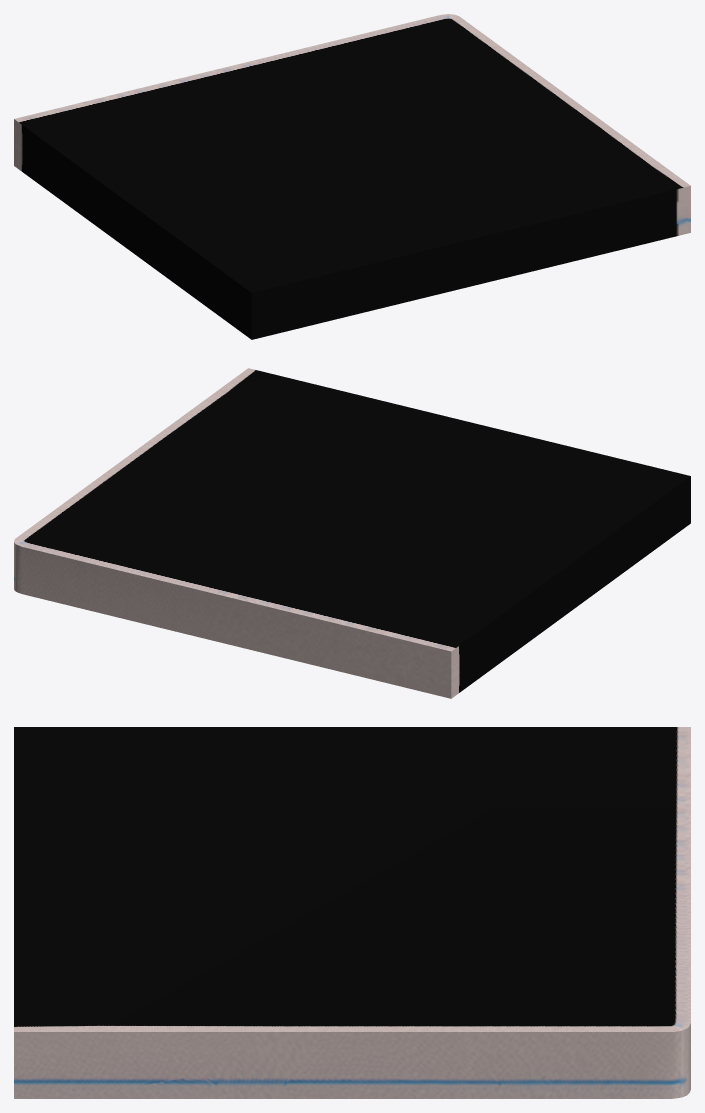
The model's file is 12-roof-back-right.fbx.
3 renders of one model, top to bottom at view 1: azimuth 30°, elevation 25°; view 2: azimuth 150°, elevation 25°; view 3: azimuth 270°, elevation 25°, orthographic. The views are drawn at different scales.
Parts seen in each view (by area): view 1: roof-back-right; view 2: roof-back-right; view 3: roof-back-right.
Part boxes in pixels (bbox=[...]): roof-back-right: bbox=[14, 14, 690, 339]; roof-back-right: bbox=[14, 368, 690, 698]; roof-back-right: bbox=[14, 727, 690, 1098].
Bounding box in the file's own units: 7485 × 765 × 7020.
1 material, 1 textured.
